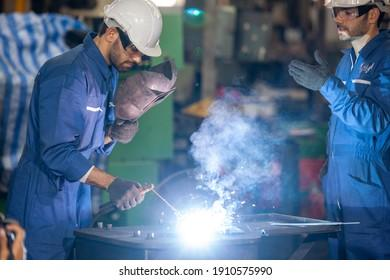gloves: (287, 50, 332, 92), (107, 174, 146, 211), (107, 118, 140, 144)
